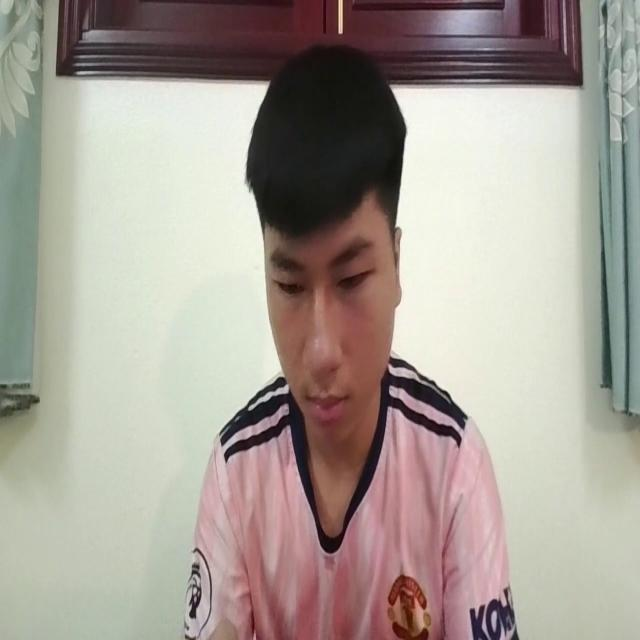student: (184, 28, 518, 640)
